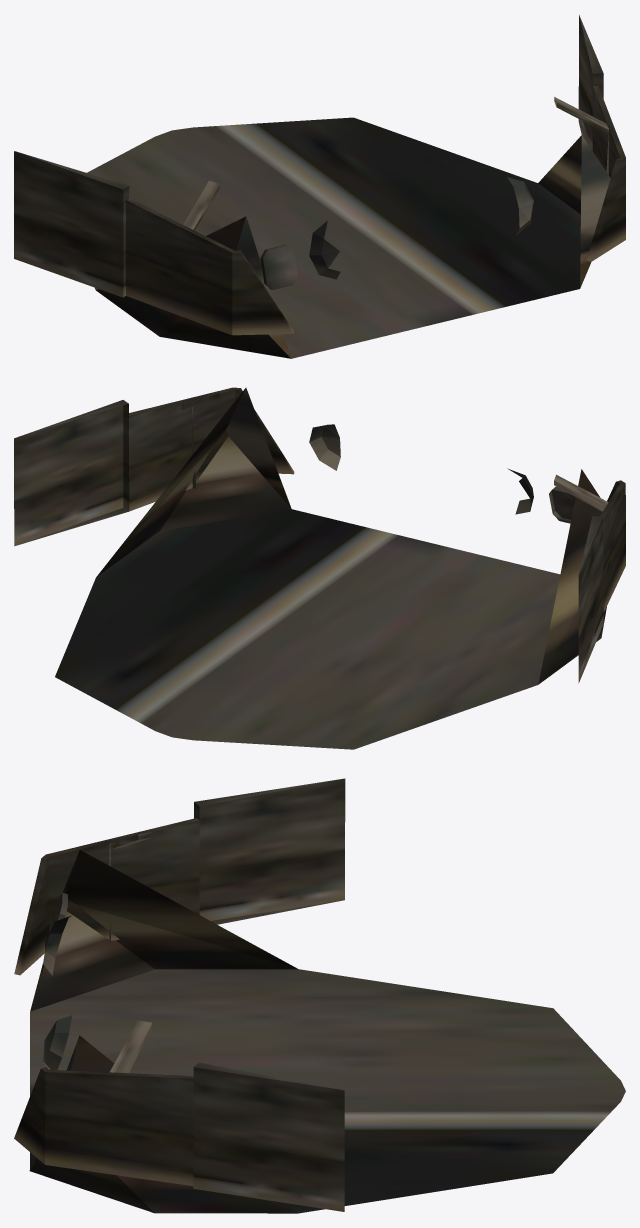
The model's file is pz4_hull_m1.obj.
3 views of the same model, one above another, from view 1: azimuth 30°, elevation 25°; view 2: azimuth 150°, elevation 25°; view 3: azimuth 270°, elevation 25° (orthographic). The views are drawn at different scales.
Visible parts, largest first — view 1: pz4_hull_m1; view 2: pz4_hull_m1; view 3: pz4_hull_m1.
Boxes of the visible parts, left/top/right/bottom form: pz4_hull_m1: left=14, top=15, right=625, bottom=358; pz4_hull_m1: left=14, top=387, right=625, bottom=749; pz4_hull_m1: left=14, top=778, right=625, bottom=1213.
Bounding box in the file's own units: 2.5 × 0.6177 × 2.08.
1 material, 1 textured.
